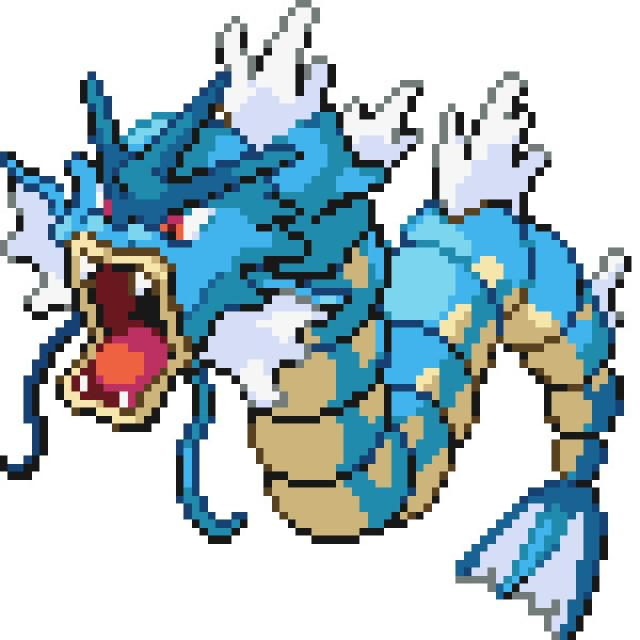Gyarados: (2, 4, 624, 558)
